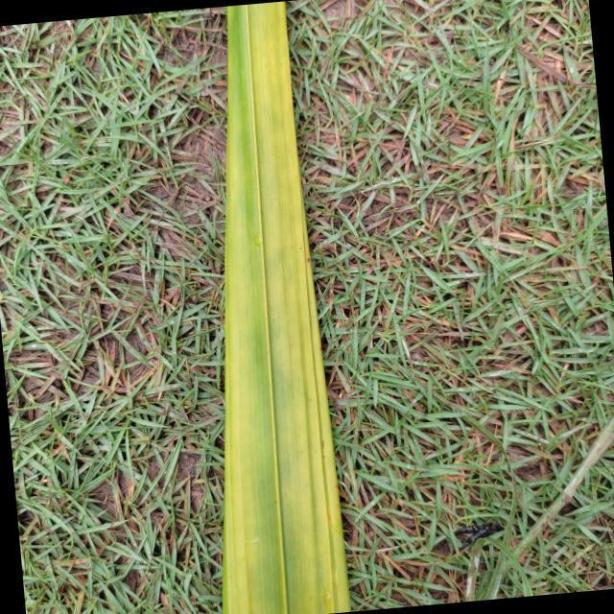nitrogen: (222, 0, 352, 614)
